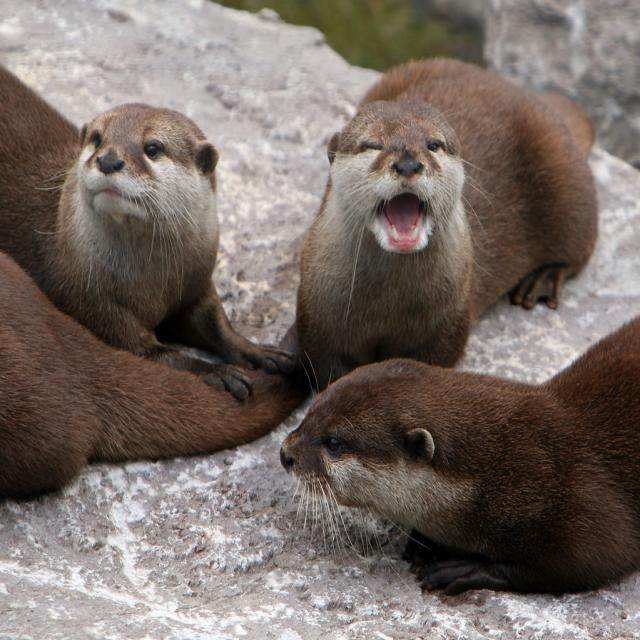otter: (282, 316, 640, 596), (302, 62, 598, 367), (1, 101, 276, 389)
